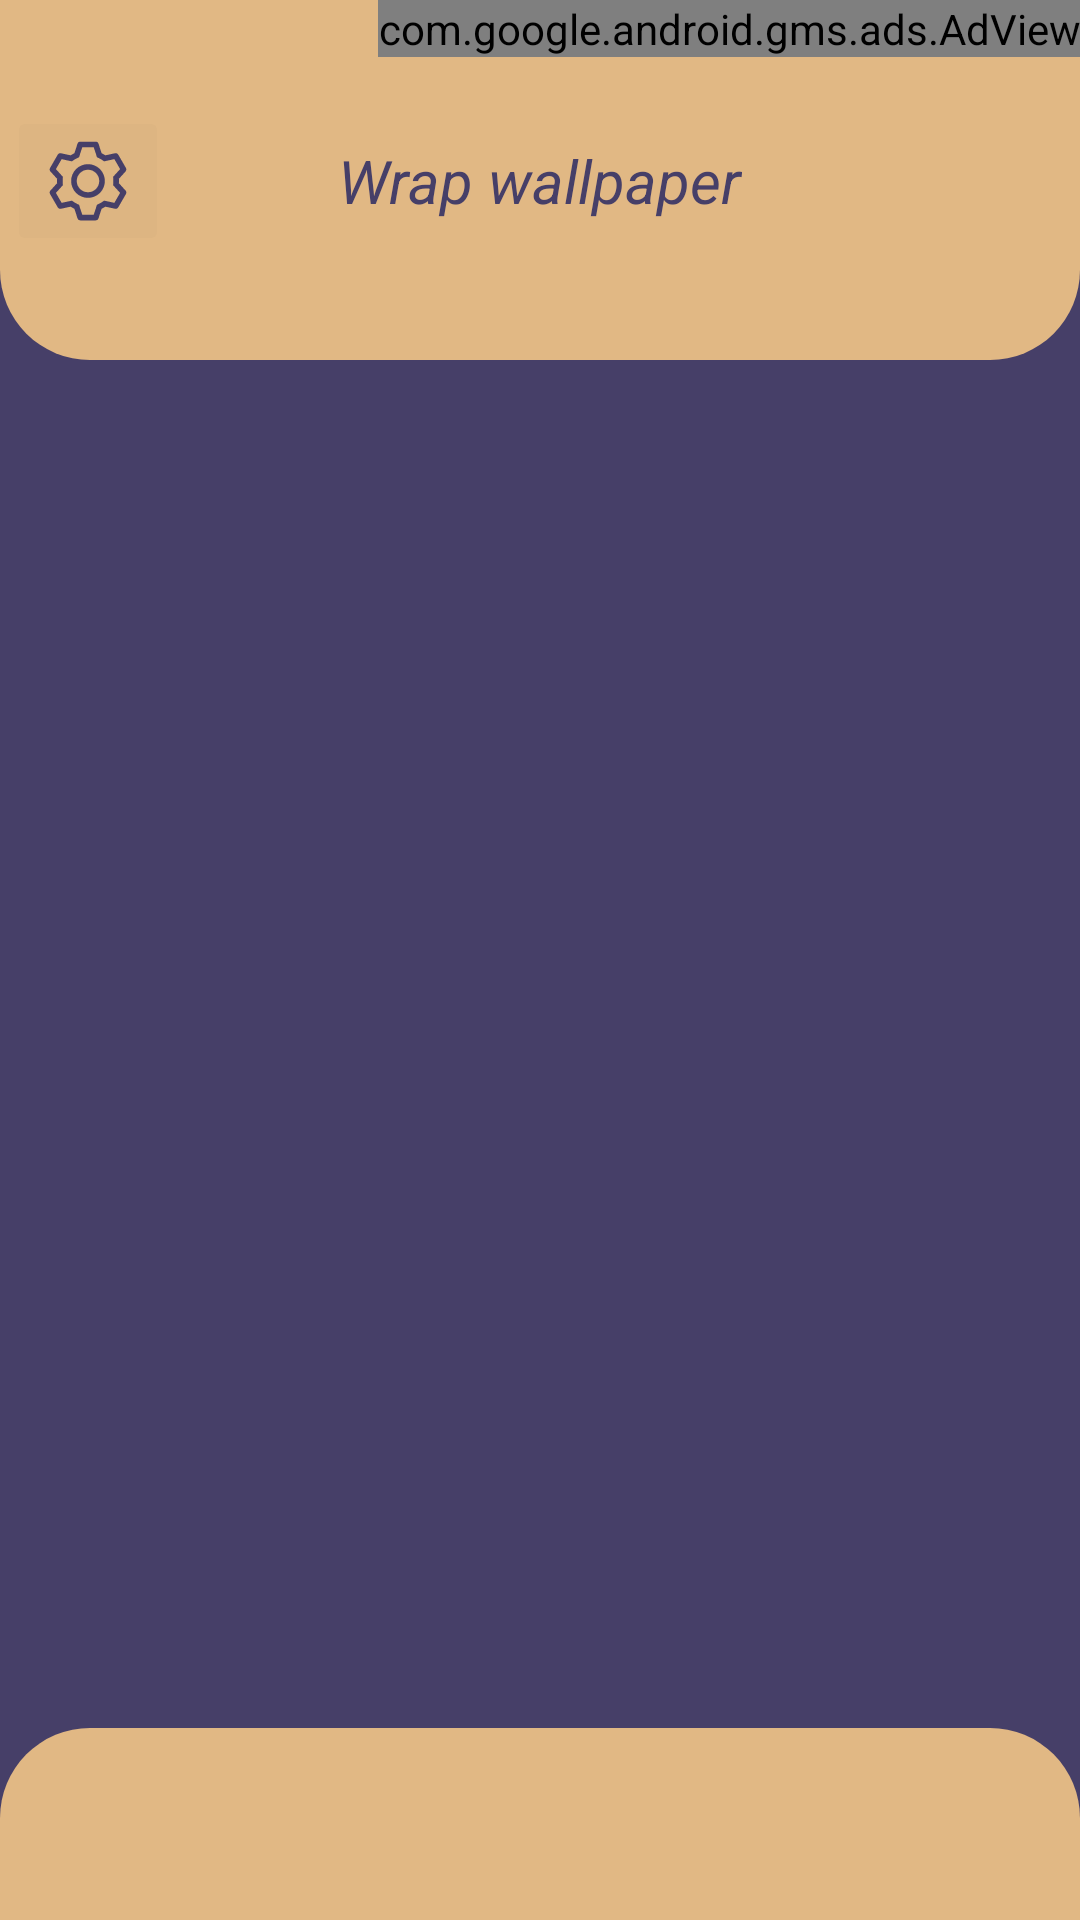

Icon bounding boxes for this 1080*1920 phone screenshot, format (x1, y1, x2, y2):
setting: (49, 141, 127, 221)
